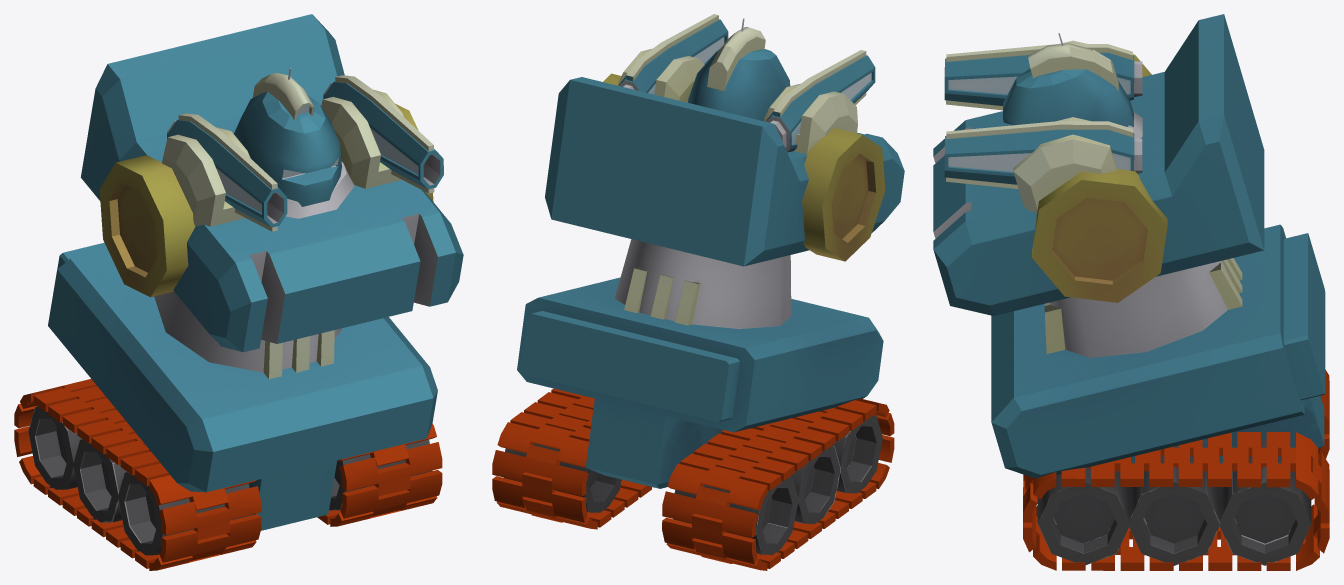
The model's file is player_move3.obj.
3 views of the same model, side by side, from view 1: azimuth 30°, elevation 25°; view 2: azimuth 150°, elevation 25°; view 3: azimuth 270°, elevation 25° (orthographic). The views are drawn at different scales.
Visible parts, largest first — view 1: Object004, Box038, Object012, Object011, Box042; view 2: Object004, Box038, Box042, Object011, Object012; view 3: Object004, Object011, Box042, Object012, Box038.
Boxes of the visible parts, <box> form: Object004: <box>48,14,463,530</box>; Box038: <box>14,379,261,570</box>; Object012: <box>167,75,443,231</box>; Object011: <box>28,406,432,555</box>; Box042: <box>317,424,442,526</box>; Object004: <box>517,27,904,488</box>; Box038: <box>662,398,894,570</box>; Box042: <box>492,388,651,529</box>; Object011: <box>504,415,882,554</box>; Object012: <box>618,14,875,152</box>; Object004: <box>933,14,1325,478</box>; Object011: <box>1037,439,1311,565</box>; Box042: <box>1023,432,1329,570</box>; Object012: <box>944,44,1142,188</box>; Box038: <box>1318,369,1329,458</box>.
Bounding box in the file's own units: 110 × 178 × 135.
3 materials, 1 textured.
